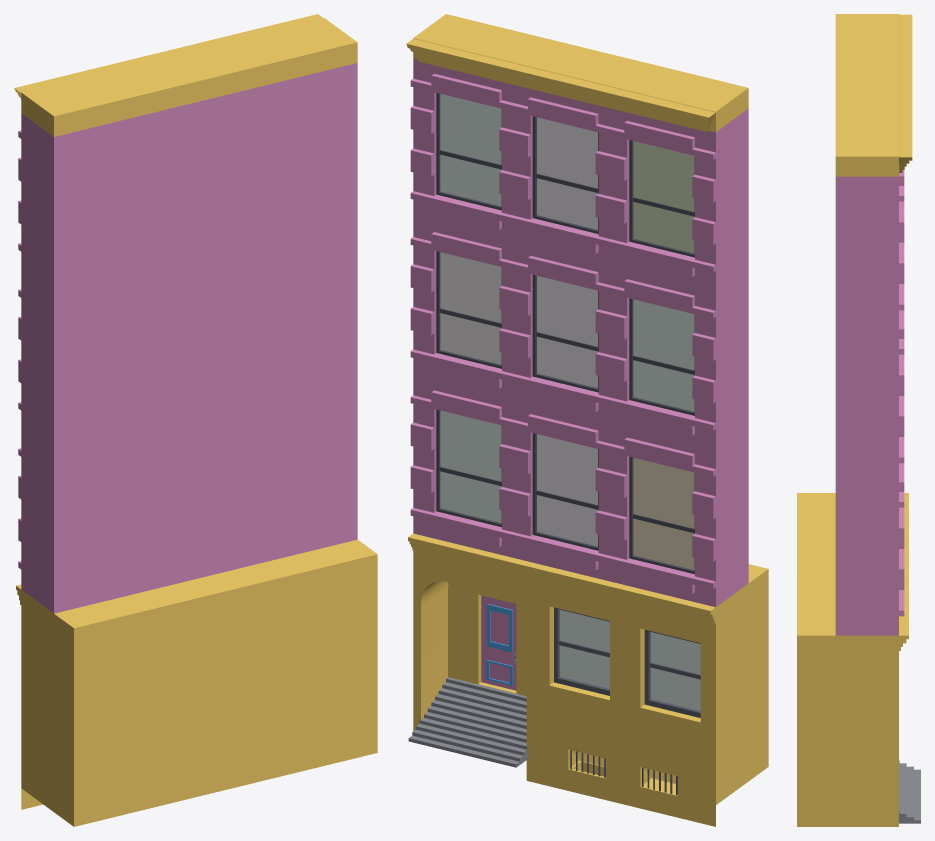
3 views of the same model, side by side, from view 1: azimuth 30°, elevation 25°; view 2: azimuth 150°, elevation 25°; view 3: azimuth 270°, elevation 25° (orthographic). The views are drawn at different scales.
Visible parts, largest first — view 1: Etage007; view 2: Etage007; view 3: Etage007.
Part boxes in pixels (x1,y1,x2,y2): Etage007: [14, 14, 377, 826]; Etage007: [406, 14, 768, 826]; Etage007: [797, 14, 920, 826].
Size of the model in its own units: 315 by 711 by 115.
